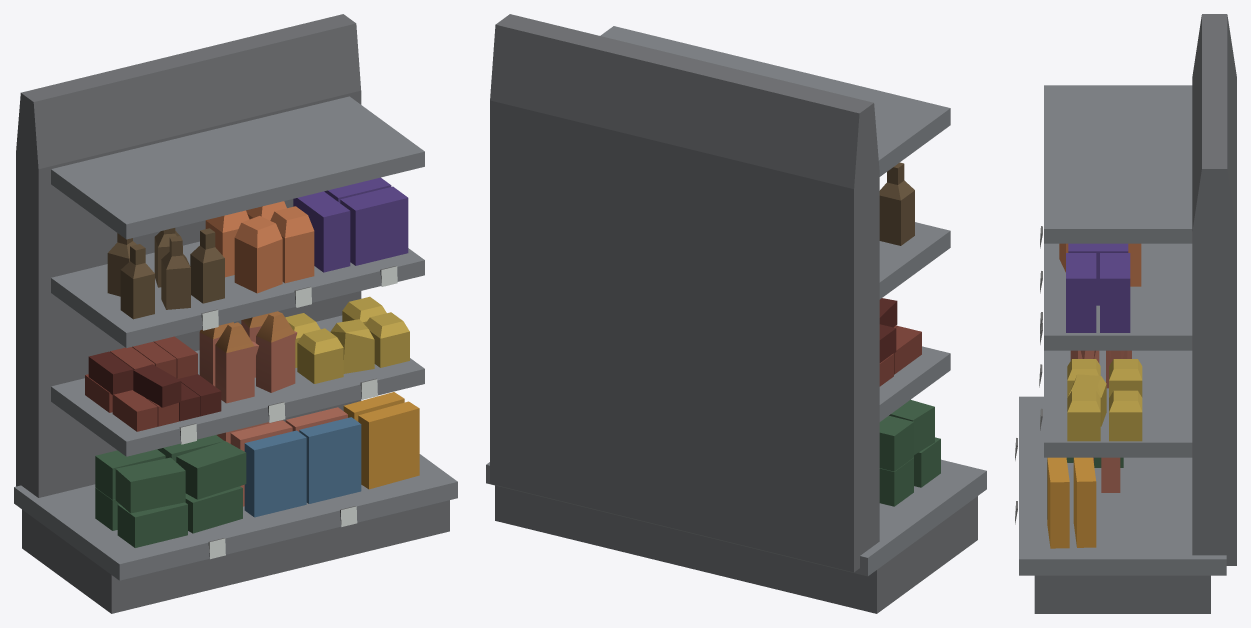
The model's file is SM_Prop_ShopInterior_Shelf_01.glb.
3 views of the same model, side by side, from view 1: azimuth 30°, elevation 25°; view 2: azimuth 150°, elevation 25°; view 3: azimuth 270°, elevation 25° (orthographic). The views are drawn at different scales.
Parts seen in each view (by area): view 1: SM_Prop_ShopInterior_Shelf_01; view 2: SM_Prop_ShopInterior_Shelf_01; view 3: SM_Prop_ShopInterior_Shelf_01.
Part boxes in pixels (left/top/right/bottom): SM_Prop_ShopInterior_Shelf_01: left=14, top=14, right=457, bottom=613; SM_Prop_ShopInterior_Shelf_01: left=486, top=14, right=986, bottom=613; SM_Prop_ShopInterior_Shelf_01: left=1015, top=14, right=1236, bottom=613.
Size of the model in its own units: 0.0152 by 0.0193 by 0.00878.
1 material, 1 textured.
